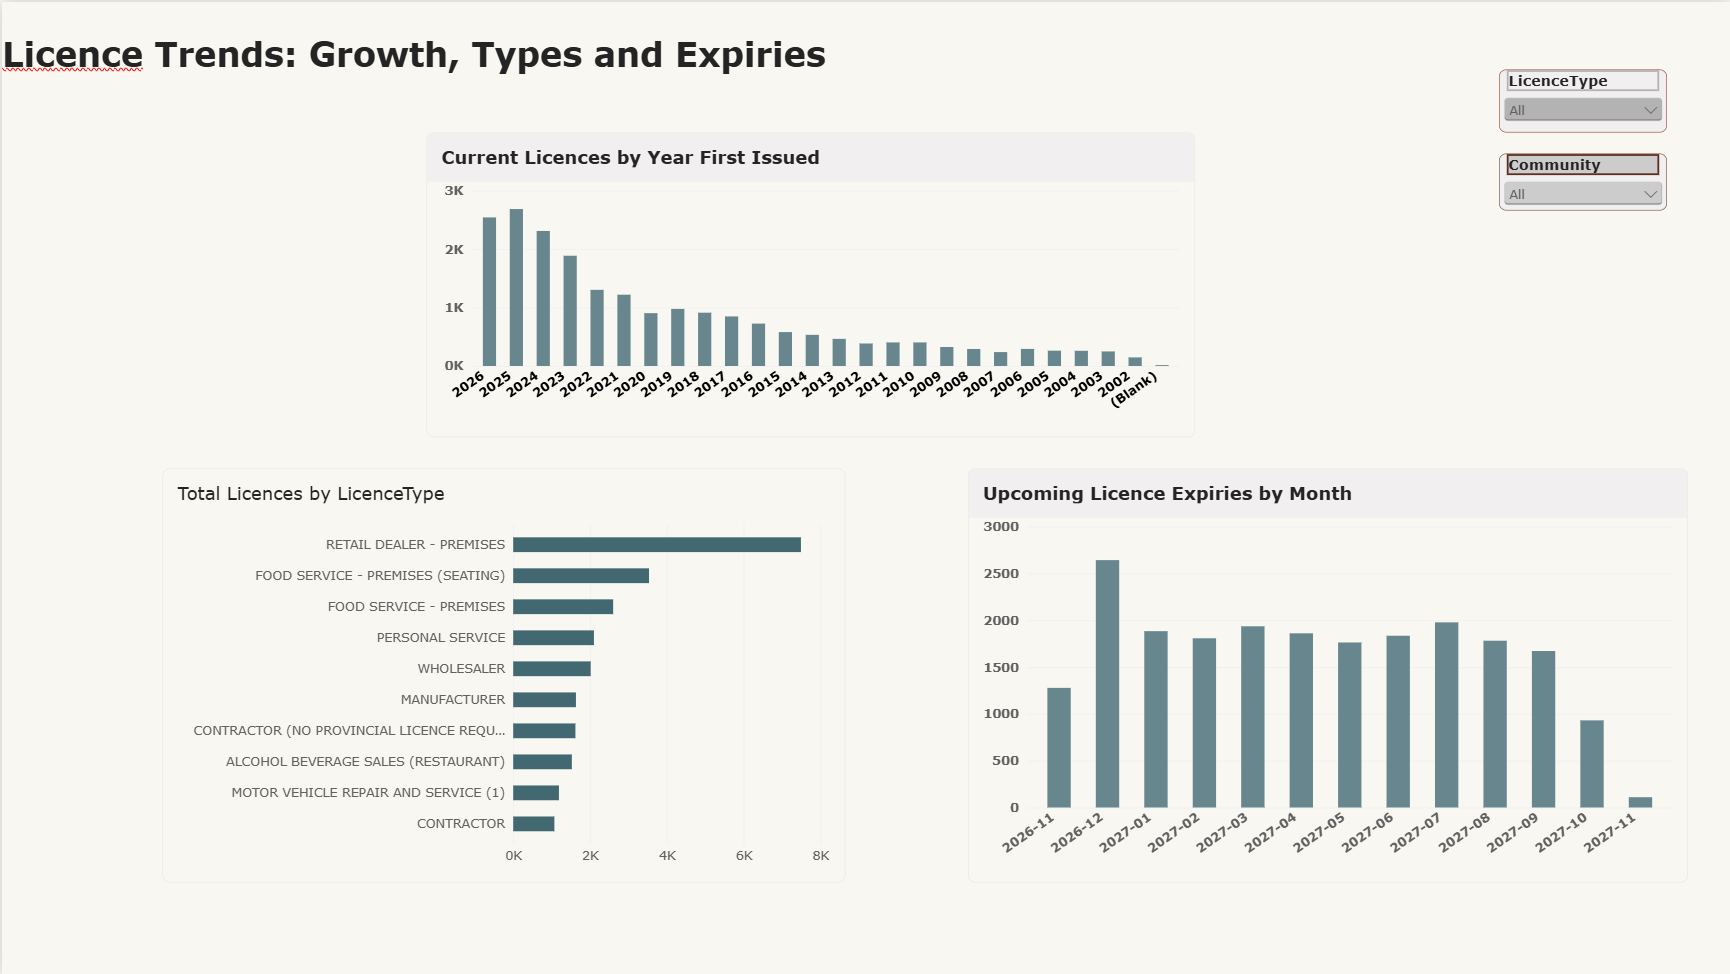

What the dashboard file says about the page in this screenshot:
{"tool":"powerbi","page":{"name":"Trends","canvas":[1920,1080],"ordinal":2},"visuals":[{"type":"clusteredColumnChart","title":"Current Licences by Year First Issued","fields":{"Category":["datetable.Year"],"Y":["_Measures.Total Licences"]},"box":[471.7,145,854.2,338.8],"z":0},{"type":"clusteredColumnChart","title":"Upcoming Licence Expiries by Month","fields":{"Category":["datetable.Year-Month"],"Y":["_Measures.Expiries"]},"box":[1073.3,518.3,800,460],"z":1},{"type":"clusteredBarChart","fields":{"Category":["vw_LicenceTypes.LicenceType"],"Y":["_Measures.Total Licences"]},"box":[178.3,518.3,758.3,460],"z":2},{"type":"slicer","fields":{"Values":["BusinessLicences.COMDISTNM"]},"box":[1663.3,168.3,186.7,63.3],"z":3},{"type":"slicer","fields":{"Values":["vw_LicenceTypes.LicenceType"]},"box":[1663.3,75,186.7,70],"z":4},{"type":"textbox","box":[0,35,948.3,75],"z":5}]}

Visuals, with their boxes in screenshot pixels (x1, y1, x2, y2), scaled from the page's 1920x1080 canvas onto the 1730x974 screenshot:
"Current Licences by Year First Issued" clusteredColumnChart: Rect(425, 131, 1195, 436)
"Upcoming Licence Expiries by Month" clusteredColumnChart: Rect(967, 467, 1688, 882)
clusteredBarChart - vw_LicenceTypes.LicenceType x _Measures.Total Licences: Rect(161, 467, 844, 882)
slicer - BusinessLicences.COMDISTNM: Rect(1499, 152, 1667, 209)
slicer - vw_LicenceTypes.LicenceType: Rect(1499, 68, 1667, 131)
textbox: Rect(0, 32, 854, 99)
